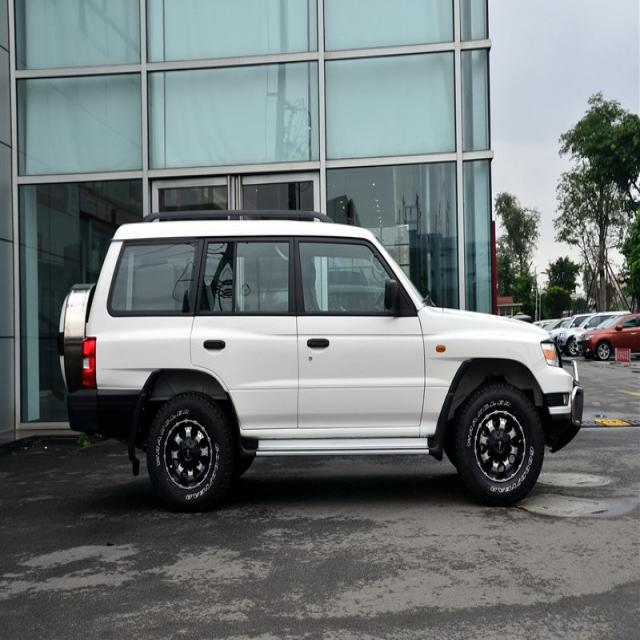back_right_side_light: (79, 332, 100, 388)
door: (185, 237, 299, 449)
front_bumper: (546, 374, 588, 436)
front_right_side_door: (294, 229, 427, 436)
front_right_side_light: (536, 337, 560, 368)
front_right_side_mirror: (382, 279, 400, 317)
rear_bumper: (61, 380, 104, 438)
wheel: (463, 386, 545, 500), (149, 393, 226, 508)
